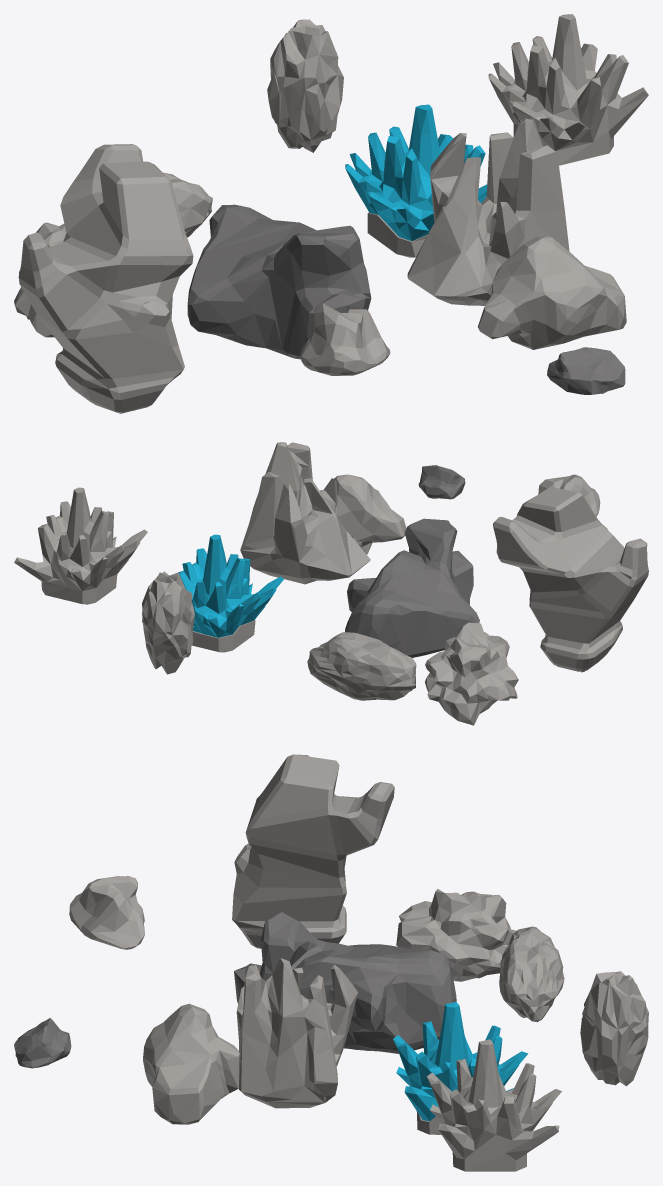
The model's file is RockPack.fbx.
The picture shows the model from 3 angles, top to bottom: view 1: azimuth 30°, elevation 25°; view 2: azimuth 150°, elevation 25°; view 3: azimuth 270°, elevation 25°; orthographic projection. The views are drawn at different scales.
Visible parts, largest first — view 1: Rock5, Rock6, Rock4, Rock7, Rock3, Stone, Rock10, Rock2, Rock1, Rock9, Rock8; view 2: Rock5, Rock6, Rock4, Rock7, Stone, Rock8, Rock9, Rock10, Rock3, Rock1, Rock2; view 3: Rock5, Rock6, Rock4, Rock7, Rock3, Rock8, Rock10, Stone, Rock9, Rock2, Rock1.
Boxes of the visible parts, bbox=[...] form: Rock5: bbox=[18, 144, 193, 413]; Rock6: bbox=[187, 204, 371, 359]; Rock4: bbox=[407, 118, 569, 305]; Rock7: bbox=[488, 14, 648, 165]; Rock3: bbox=[478, 235, 626, 349]; Stone: bbox=[345, 104, 487, 257]; Rock10: bbox=[267, 19, 343, 152]; Rock2: bbox=[300, 303, 390, 375]; Rock1: bbox=[547, 347, 625, 394]; Rock9: bbox=[163, 172, 212, 237]; Rock8: bbox=[14, 222, 66, 337]; Rock5: bbox=[493, 487, 648, 672]; Rock6: bbox=[345, 518, 479, 657]; Rock4: bbox=[240, 442, 370, 584]; Rock7: bbox=[14, 487, 147, 604]; Stone: bbox=[178, 534, 283, 652]; Rock8: bbox=[425, 622, 518, 725]; Rock9: bbox=[307, 632, 416, 700]; Rock10: bbox=[142, 571, 194, 674]; Rock3: bbox=[334, 474, 406, 554]; Rock1: bbox=[418, 465, 465, 499]; Rock2: bbox=[538, 474, 600, 516]; Rock5: bbox=[232, 754, 394, 948]; Rock6: bbox=[234, 912, 456, 1053]; Rock4: bbox=[236, 958, 358, 1108]; Rock7: bbox=[426, 1039, 561, 1171]; Rock3: bbox=[143, 1003, 239, 1124]; Rock8: bbox=[396, 889, 516, 981]; Rock10: bbox=[580, 971, 648, 1086]; Stone: bbox=[393, 1002, 528, 1134]; Rock9: bbox=[499, 926, 564, 1022]; Rock2: bbox=[69, 876, 144, 949]; Rock1: bbox=[14, 1018, 71, 1068].
Bounding box in the file's own units: 2794 × 889 × 2465.
